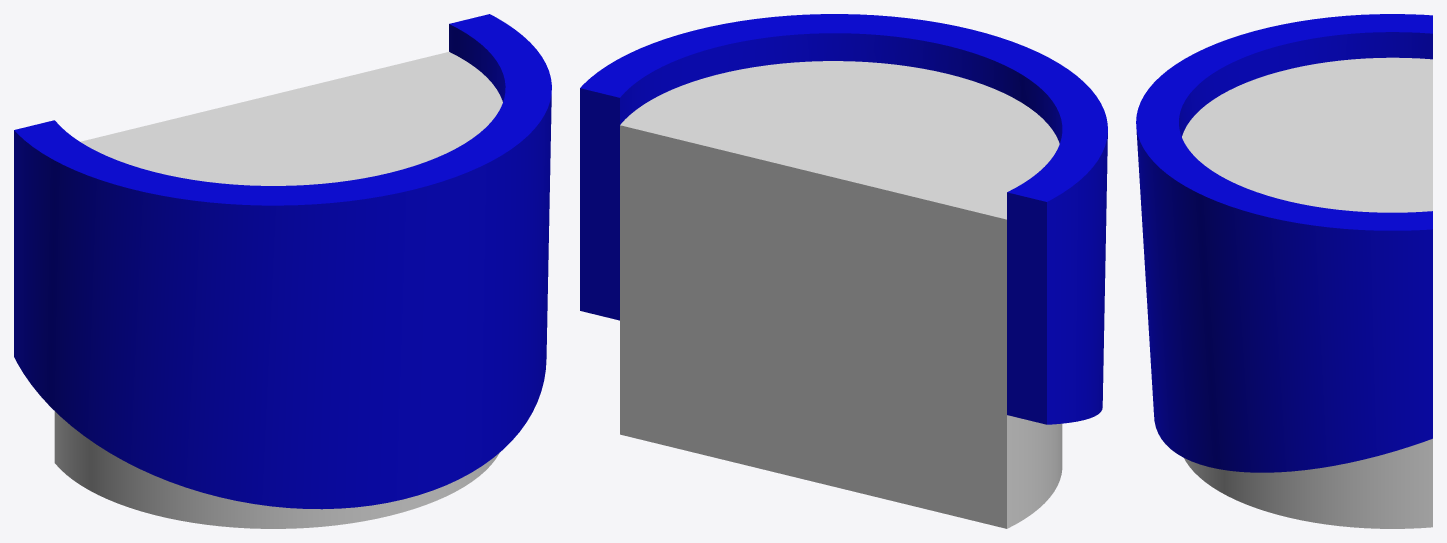
File: counter-circle-03.glb
3 views of the same model, side by side, from view 1: azimuth 30°, elevation 25°; view 2: azimuth 150°, elevation 25°; view 3: azimuth 270°, elevation 25° (orthographic). The views are drawn at different scales.
Parts seen in each view (by area): view 1: 3DGeom-2, 3DGeom-1; view 2: 3DGeom-1, 3DGeom-2; view 3: 3DGeom-2, 3DGeom-1.
Boxes of the visible parts, box(x1,y1,x2,y2) form: 3DGeom-2: box(14, 14, 551, 509); 3DGeom-1: box(54, 52, 502, 528); 3DGeom-1: box(620, 61, 1062, 528); 3DGeom-2: box(580, 14, 1107, 424); 3DGeom-2: box(1136, 14, 1432, 472); 3DGeom-1: box(1182, 57, 1432, 528).
Bounding box in the file's own units: 1.2 × 0.8162 × 0.6944.
